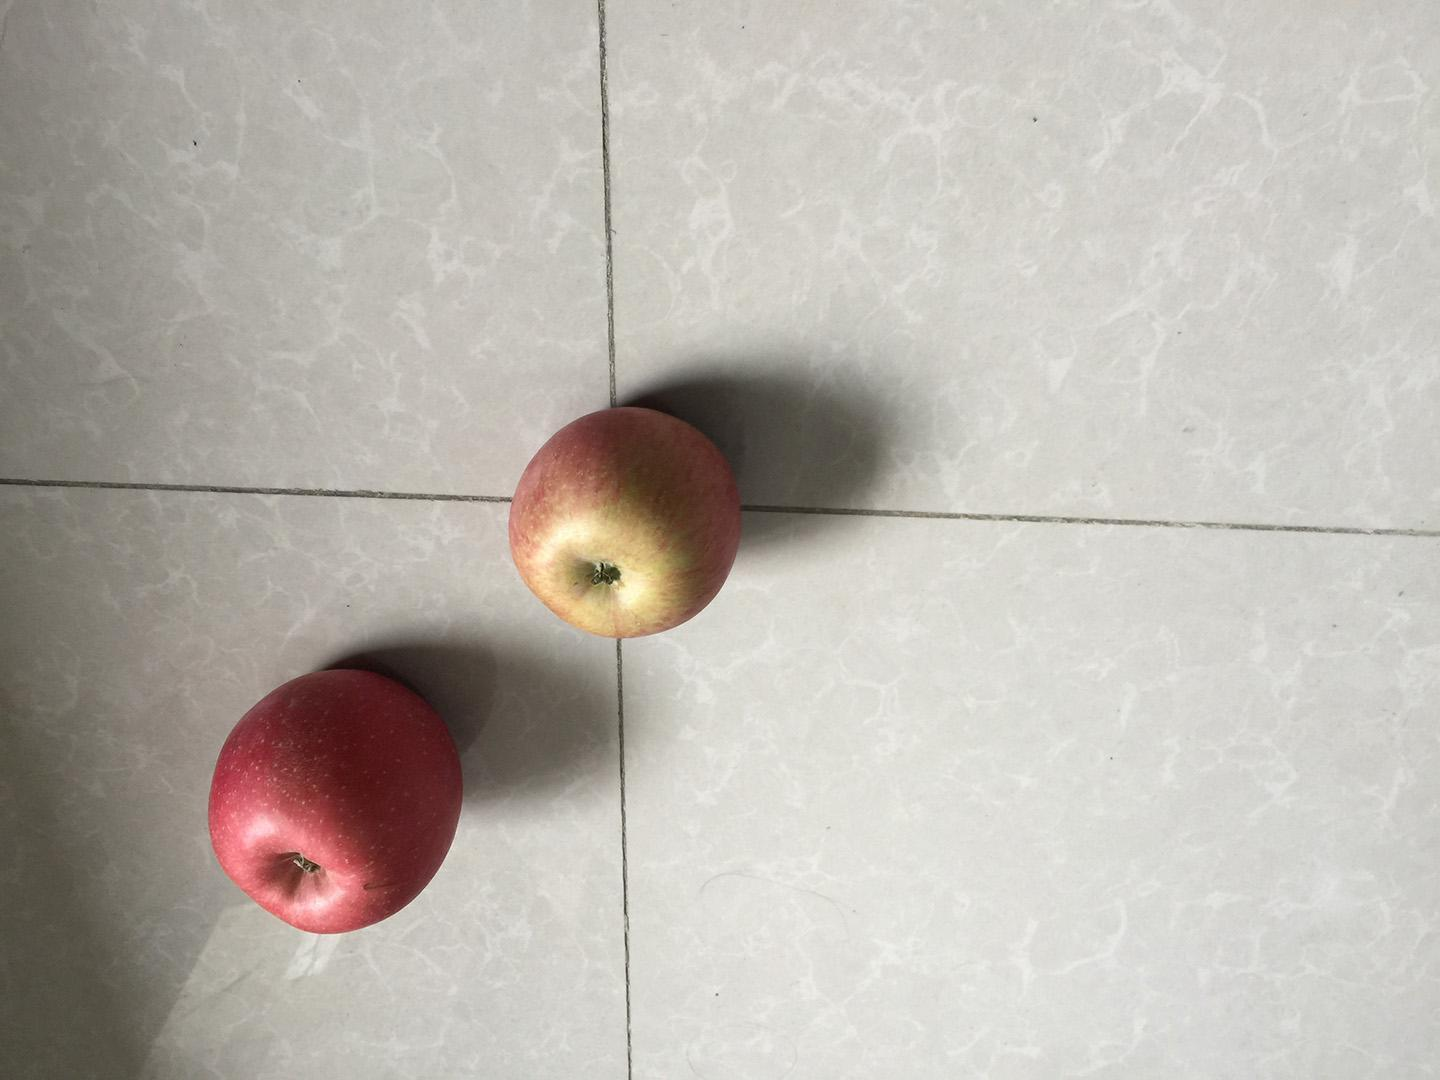apple: (202, 659, 473, 940), (502, 396, 751, 648)
